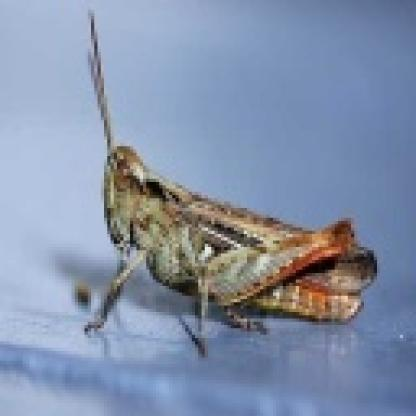grasshopper: (78, 15, 384, 354)
